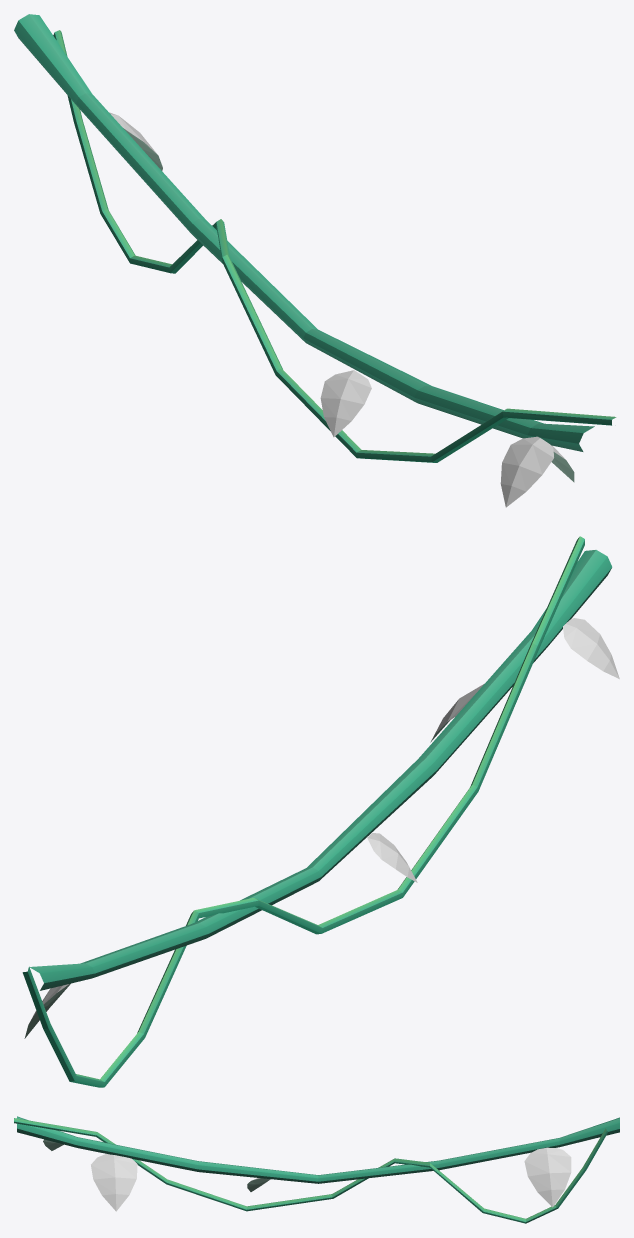
File: vineB.glb
3 renders of one model, top to bottom at view 1: azimuth 30°, elevation 25°; view 2: azimuth 150°, elevation 25°; view 3: azimuth 270°, elevation 25°, orthographic. The views are drawn at different scales.
Parts seen in each view (by area): view 1: vineB; view 2: vineB; view 3: vineB.
Boxes of the visible parts, x1,y1,x2,y2 form: vineB: [14, 14, 616, 507]; vineB: [22, 536, 619, 1087]; vineB: [14, 1116, 619, 1223].
Bounding box in the file's own units: 0.6912 × 1.02 × 5.28.
